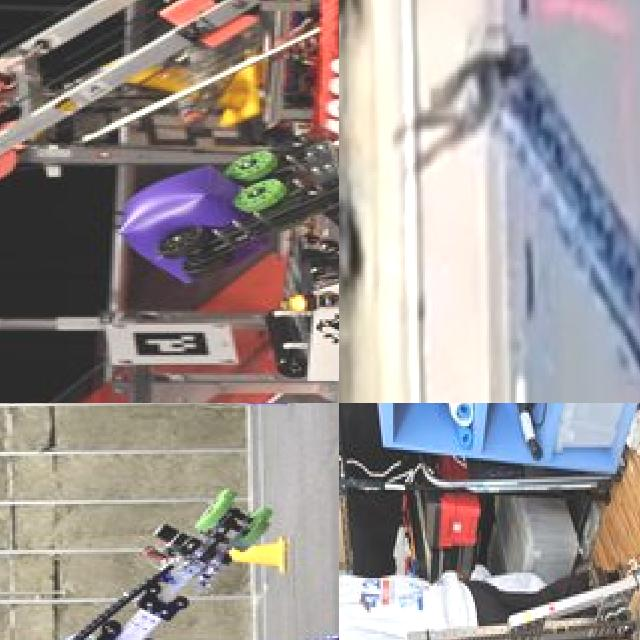FRC-Robots: (0, 0, 339, 403), (391, 0, 640, 403), (0, 0, 339, 202), (0, 473, 339, 640), (385, 424, 640, 640)
